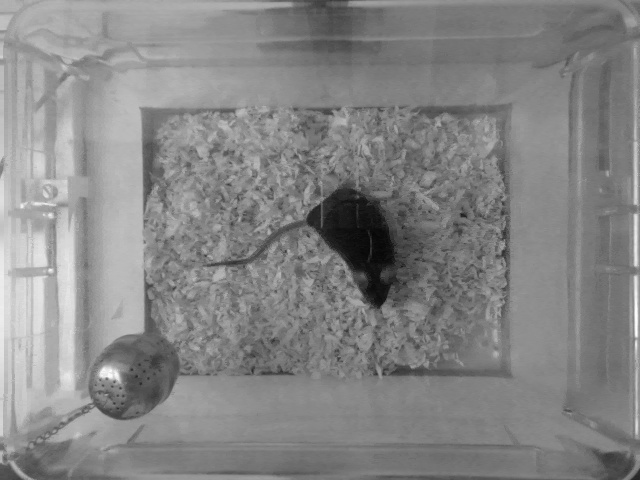mice: (205, 185, 400, 309)
